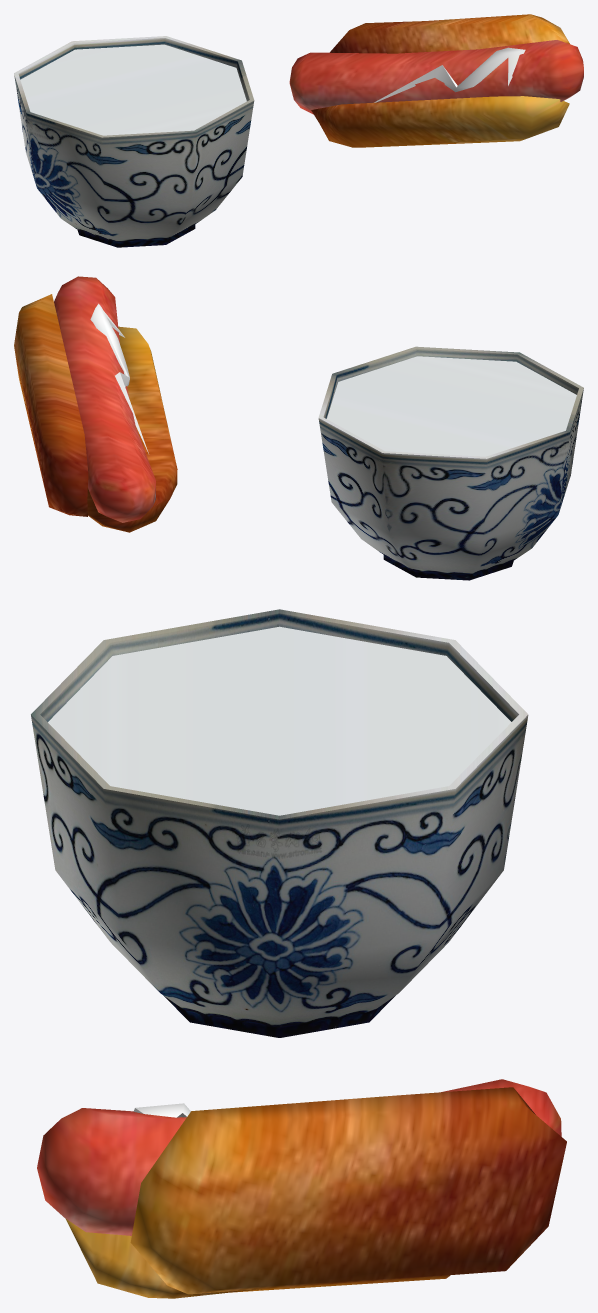
The model's file is AF_M_Prop_23.FBX.
3 renders of one model, top to bottom at view 1: azimuth 30°, elevation 25°; view 2: azimuth 150°, elevation 25°; view 3: azimuth 270°, elevation 25°, orthographic. The views are drawn at different scales.
Parts seen in each view (by area): view 1: AF_M_Prop_23; view 2: AF_M_Prop_23; view 3: AF_M_Prop_23.
Part boxes in pixels (x1,y1,x2,y2): AF_M_Prop_23: (14,14,583,247); AF_M_Prop_23: (14,276,583,580); AF_M_Prop_23: (31,609,566,1298).
Size of the model in its own units: 370 by 101 by 165.
Materials: 1 (1 with a texture image).
